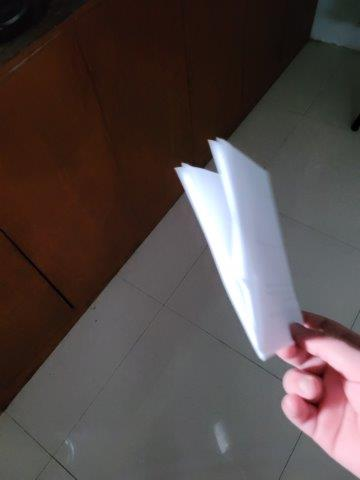kertas: (176, 138, 307, 361)
